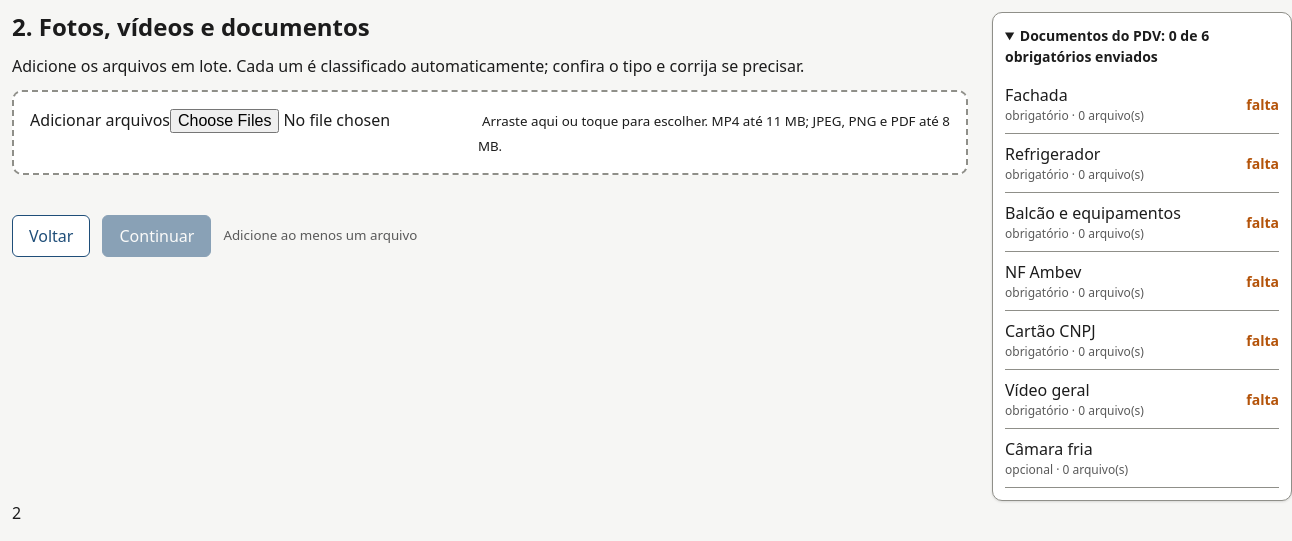
Test case: EtapaAnexos › voltar retorna à etapa 1
Click the button "Voltar".
click(51, 236)  # box [12, 215, 90, 257]
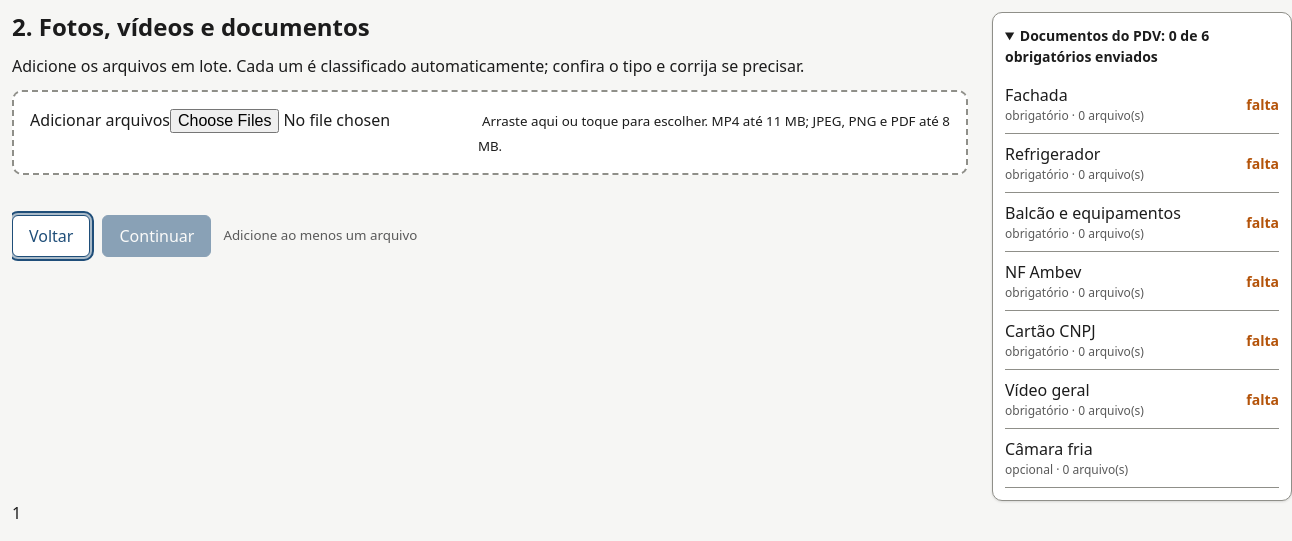
Check: the text with test id "etapa" reads "1", box [12, 502, 21, 524]
